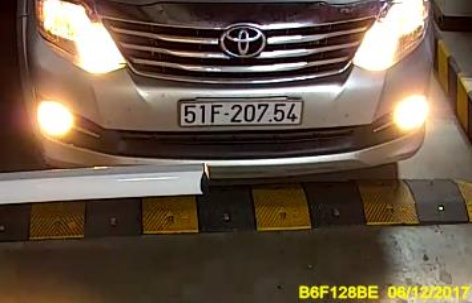plate: (177, 94, 303, 130)
